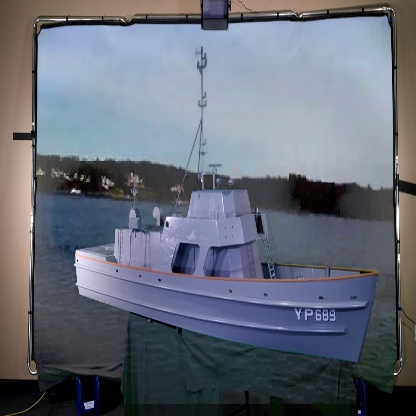YP689: (77, 44, 382, 366)
